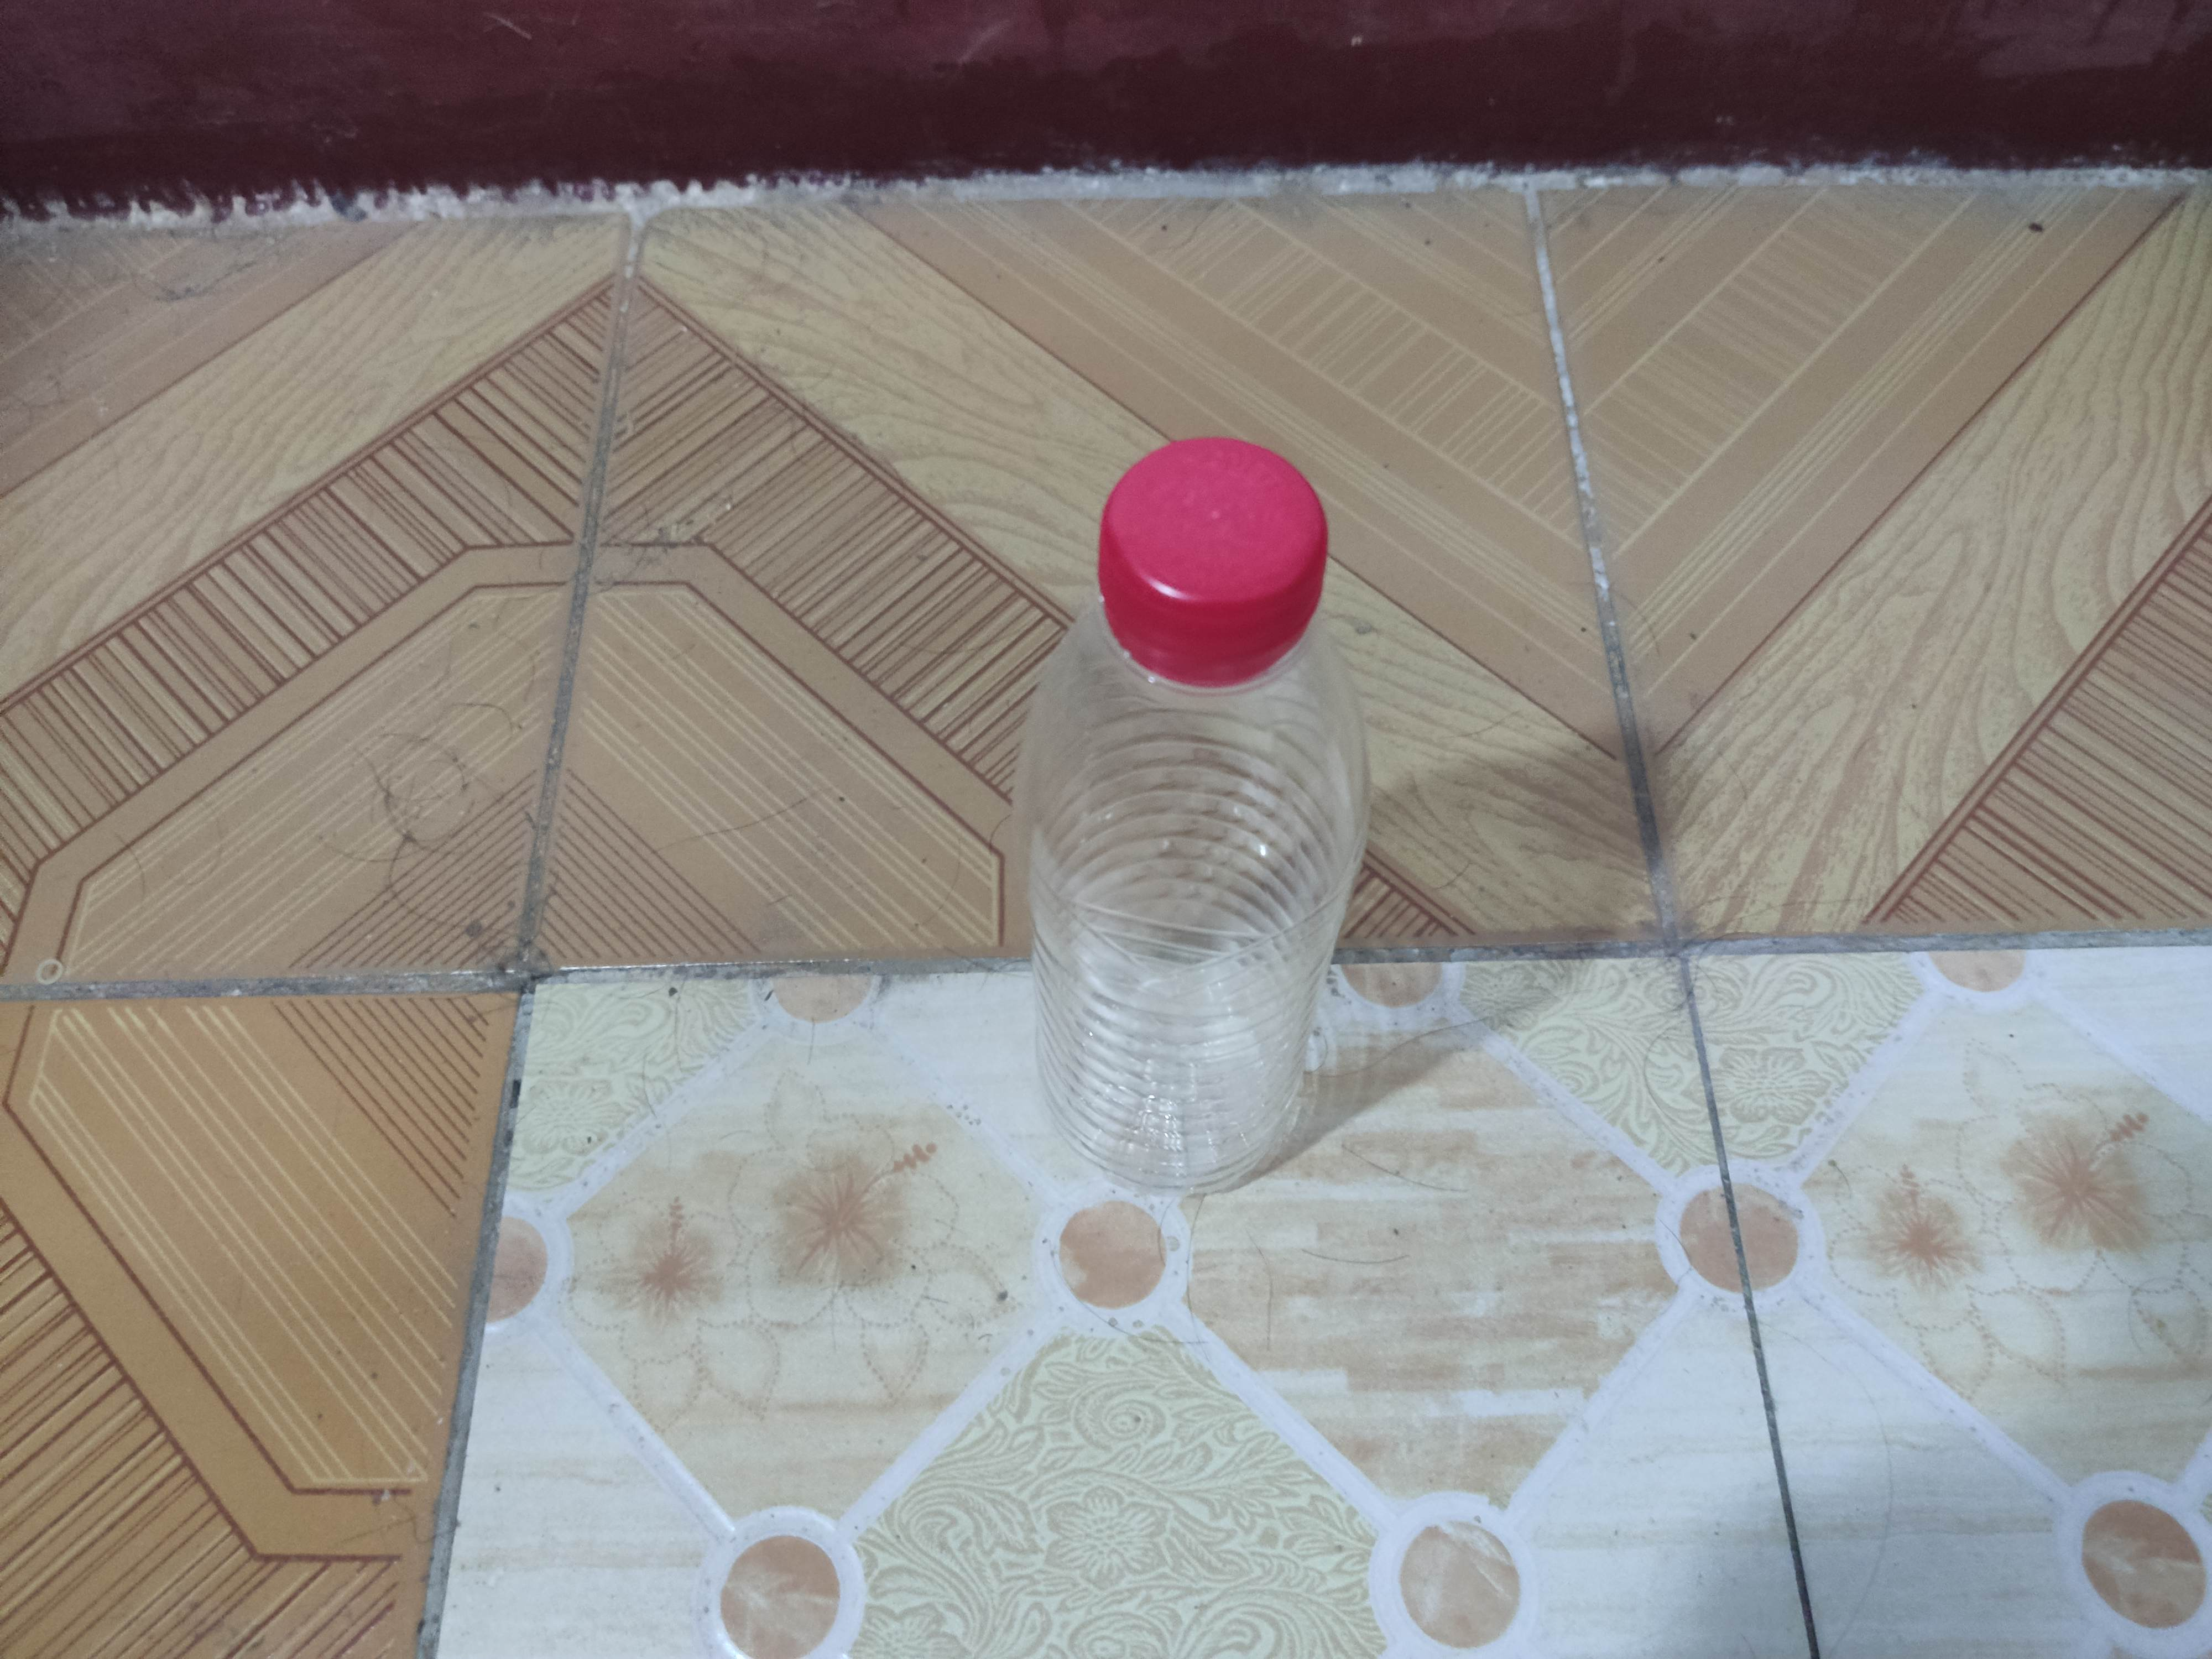Plastic Bottle: (1021, 439, 1376, 1202)
